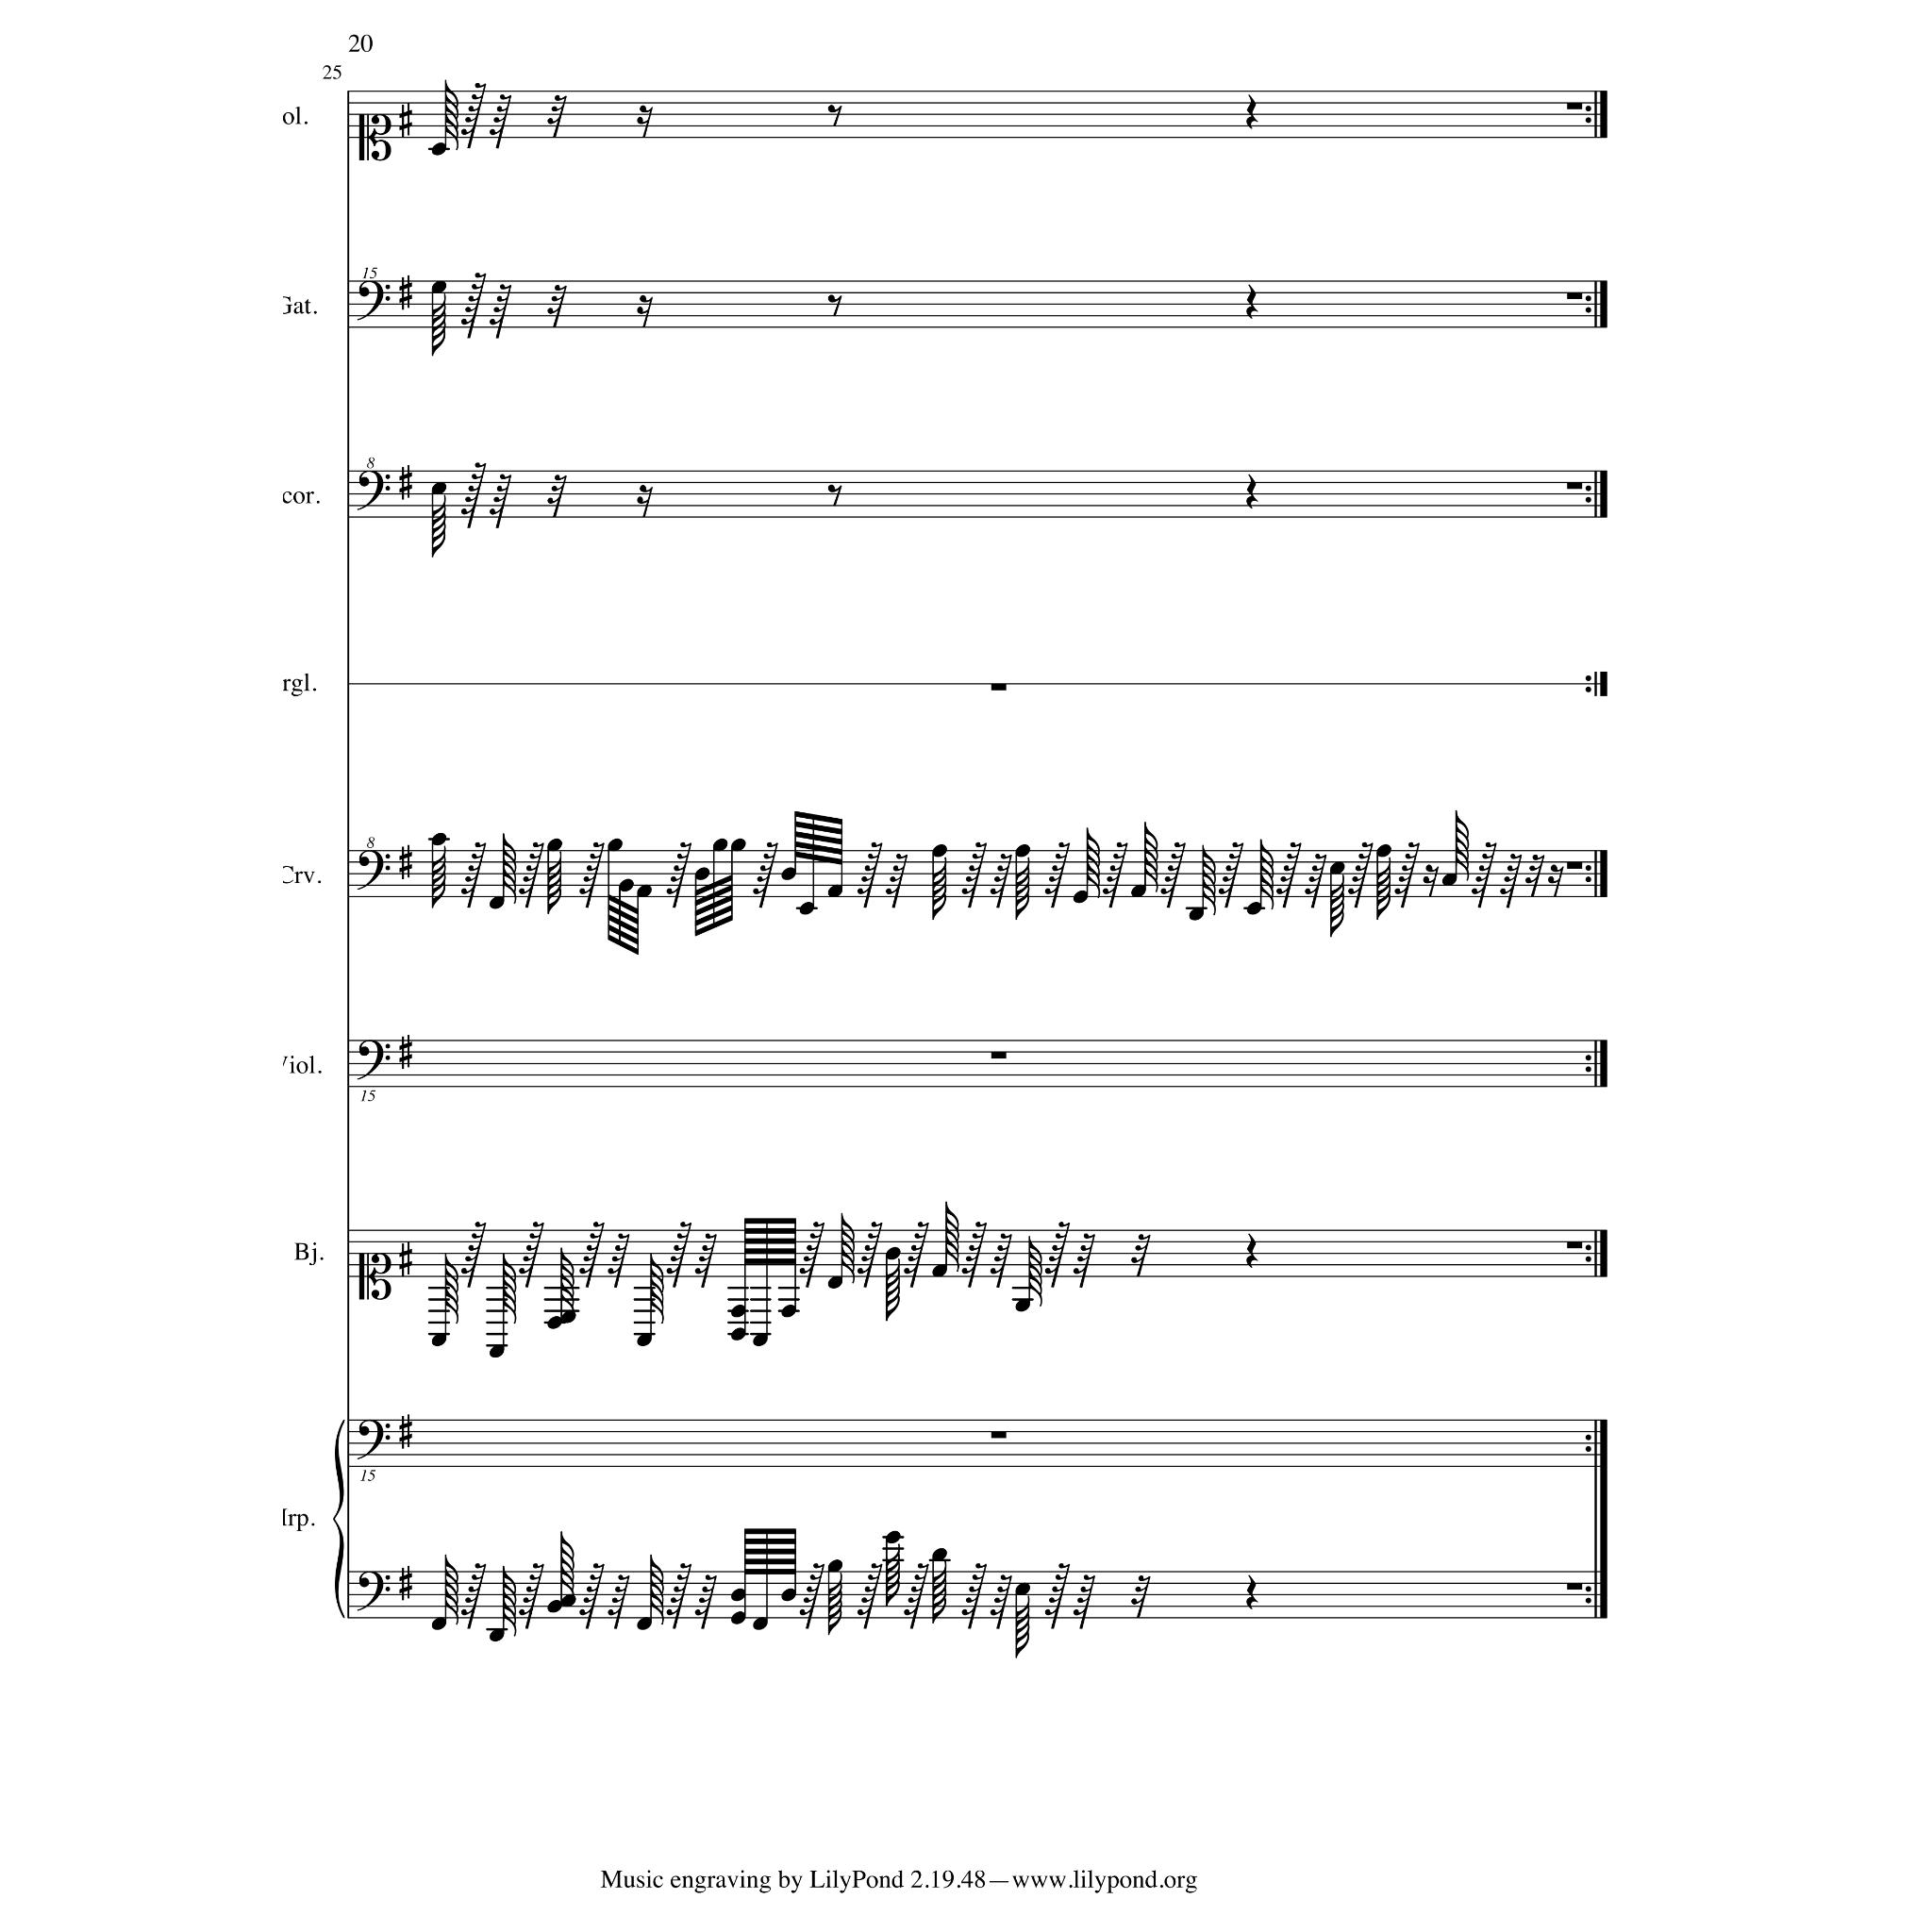brace: (333, 1419, 345, 1621)
fClef: (357, 281, 391, 322), (357, 471, 391, 511), (357, 851, 391, 892), (357, 1040, 391, 1081), (357, 1419, 391, 1460), (357, 1571, 391, 1612)
flag128thDown: (547, 851, 563, 915), (1016, 856, 1030, 920), (932, 1560, 947, 1624), (1016, 1594, 1030, 1658), (886, 1258, 901, 1322), (932, 856, 947, 920), (1376, 856, 1391, 920), (1330, 874, 1345, 938), (432, 294, 446, 357), (432, 846, 446, 909), (828, 1573, 842, 1635), (886, 1545, 901, 1606), (432, 495, 446, 557)
flag128thUp: (1086, 828, 1100, 899), (840, 1214, 855, 1284), (1454, 810, 1468, 881), (1260, 840, 1274, 911), (502, 1253, 517, 1323), (502, 833, 517, 904), (502, 1566, 517, 1637), (561, 1249, 575, 1320), (561, 1532, 575, 1603), (947, 1203, 959, 1274), (1030, 1237, 1042, 1307), (1145, 823, 1157, 893), (1203, 846, 1215, 916), (446, 1253, 458, 1323), (446, 1555, 458, 1626), (446, 81, 458, 152), (651, 1253, 663, 1323), (651, 1555, 663, 1626)
noteheadBlack: (1014, 844, 1031, 858), (1014, 1299, 1031, 1313), (559, 1309, 577, 1323), (559, 1594, 577, 1608), (1072, 890, 1088, 904), (1131, 885, 1146, 899), (932, 844, 948, 858), (932, 1263, 948, 1277), (885, 1530, 901, 1545), (1376, 844, 1392, 858), (488, 1345, 504, 1359), (488, 1628, 504, 1642), (547, 1599, 563, 1614), (430, 1332, 446, 1346), (430, 481, 446, 495), (430, 280, 446, 294), (731, 1304, 747, 1318), (780, 1304, 796, 1318), (752, 1332, 768, 1346), (617, 879, 633, 893), (637, 885, 653, 899), (637, 1332, 653, 1346), (1014, 1583, 1031, 1596), (828, 885, 842, 899), (828, 1559, 842, 1573), (798, 902, 814, 915), (932, 1548, 948, 1560), (885, 1247, 901, 1260), (1442, 874, 1458, 886), (1246, 902, 1261, 915), (1189, 908, 1205, 920), (1330, 862, 1346, 874), (488, 897, 504, 909), (547, 839, 563, 851), (430, 833, 446, 846), (430, 1617, 446, 1629), (547, 1316, 563, 1329), (430, 143, 446, 156), (694, 869, 709, 881), (711, 839, 727, 851), (731, 839, 747, 851), (731, 1329, 747, 1341), (731, 1612, 747, 1624), (731, 1589, 747, 1601), (780, 869, 796, 881), (780, 1589, 796, 1601), (752, 1617, 768, 1629), (607, 839, 623, 851), (637, 1617, 653, 1629), (828, 1276, 842, 1288)
rest16th: (1546, 863, 1564, 899), (1422, 863, 1440, 899), (635, 485, 653, 518), (635, 104, 653, 138), (635, 295, 653, 327)
rest8th: (828, 104, 842, 127), (828, 294, 842, 317), (828, 485, 842, 508)
restQuarter: (1246, 94, 1258, 131), (1246, 283, 1258, 320), (1246, 474, 1258, 510), (1246, 1233, 1258, 1269), (1246, 1575, 1258, 1610)
restWhole: (1566, 292, 1582, 301), (1566, 481, 1582, 490), (1566, 862, 1582, 870), (1566, 103, 1582, 110), (1566, 1242, 1582, 1249), (1566, 1583, 1582, 1591), (991, 1431, 1007, 1438), (991, 1053, 1007, 1060), (991, 685, 1007, 692)
